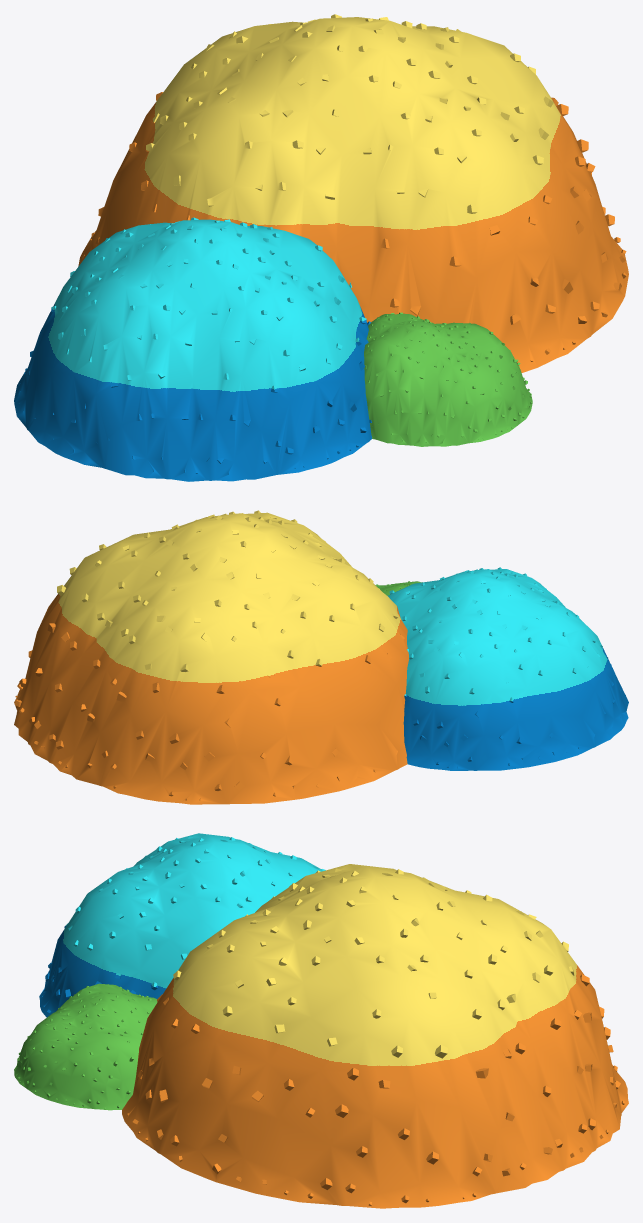
The model's file is Recolectable_Plastico.fbx.
The picture shows the model from 3 angles, top to bottom: view 1: azimuth 30°, elevation 25°; view 2: azimuth 150°, elevation 25°; view 3: azimuth 270°, elevation 25°; orthographic projection. The views are drawn at different scales.
Parts seen in each view (by area): view 1: Recolectable_Plastico; view 2: Recolectable_Plastico; view 3: Recolectable_Plastico.
Boxes of the visible parts, x1=… form: Recolectable_Plastico: x1=14, y1=14, x2=628, y2=481; Recolectable_Plastico: x1=14, y1=510, x2=628, y2=804; Recolectable_Plastico: x1=14, y1=833, x2=628, y2=1208.
Size of the model in its own units: 125 by 46.41 by 115.
